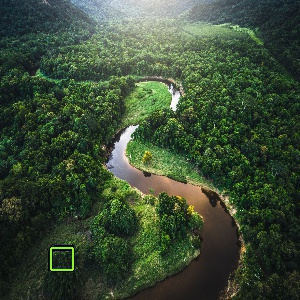square: (48, 247, 75, 271)
